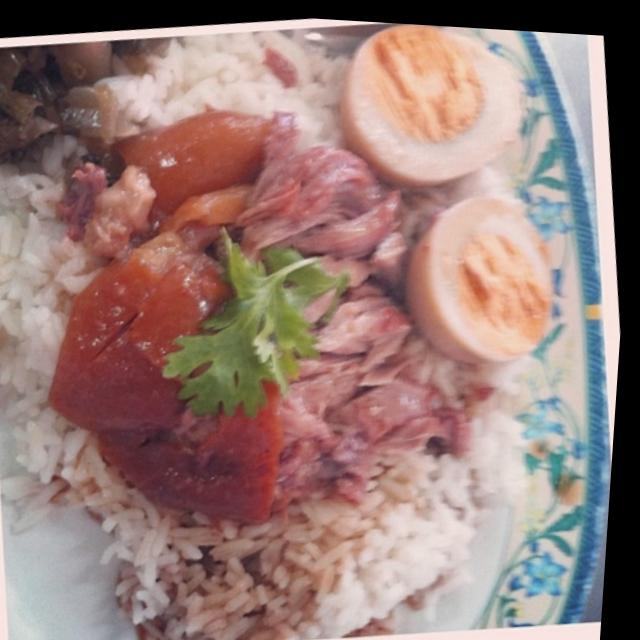猪肉菜式: (3, 2, 630, 637)
